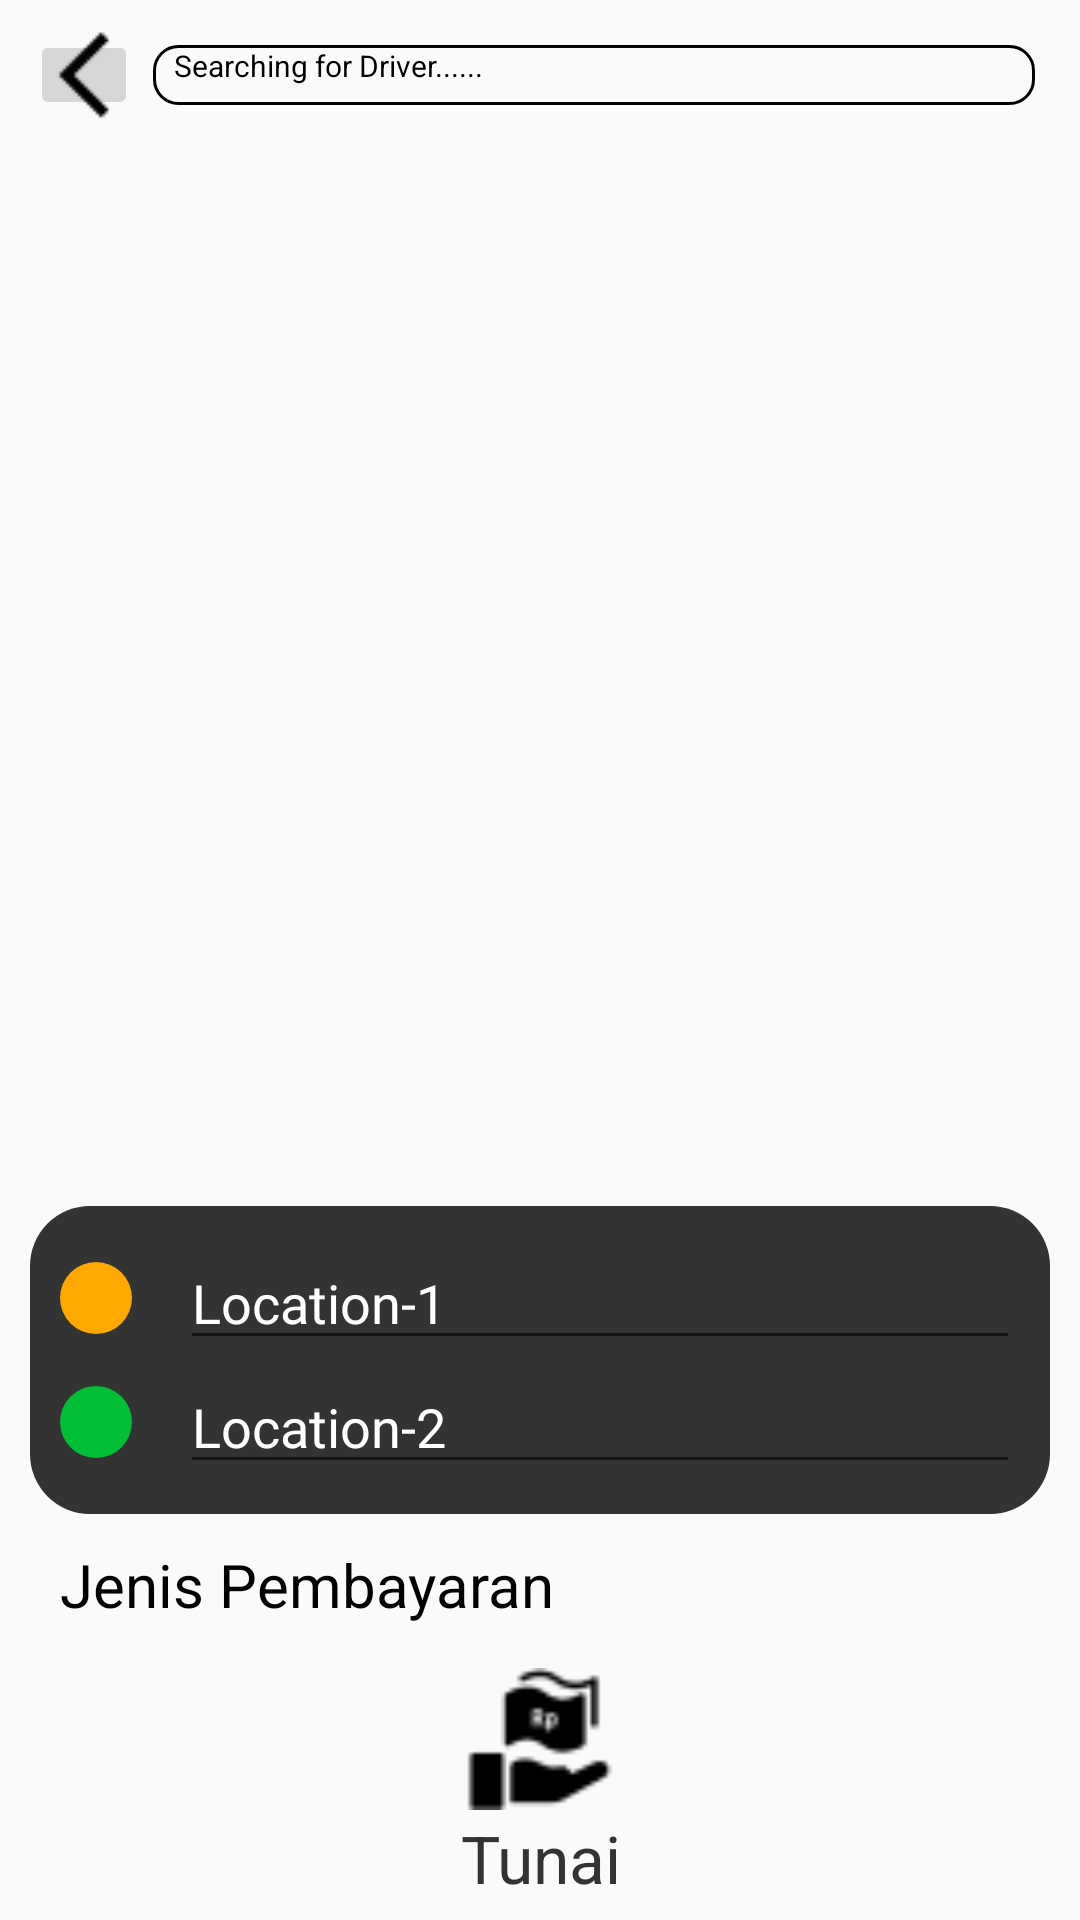

Named icons in this screenshot (1080 × 1920) and their centers, point (x, y):
arrow back: point (84, 75)
